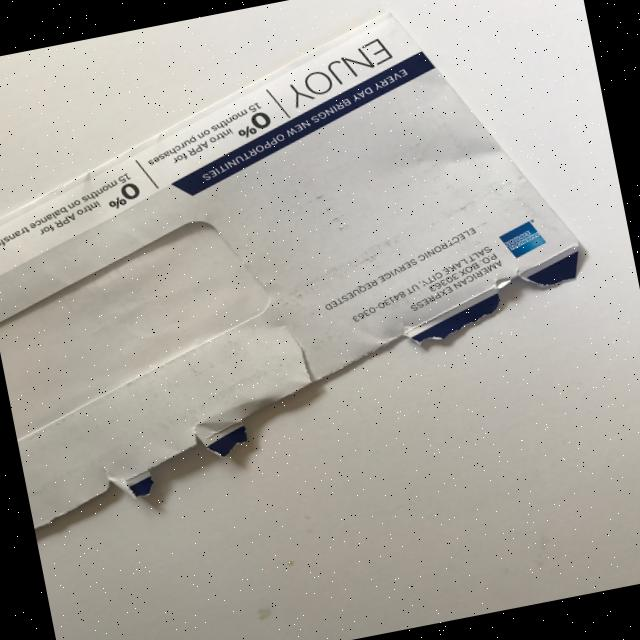paper: (0, 0, 615, 529)
